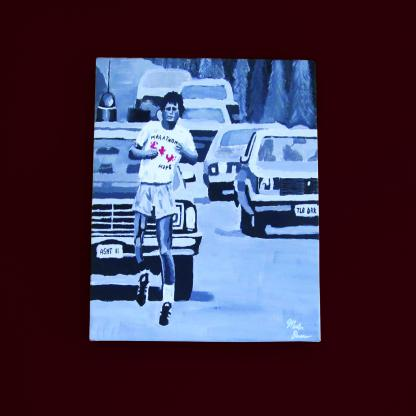Car: (91, 59, 320, 302)
